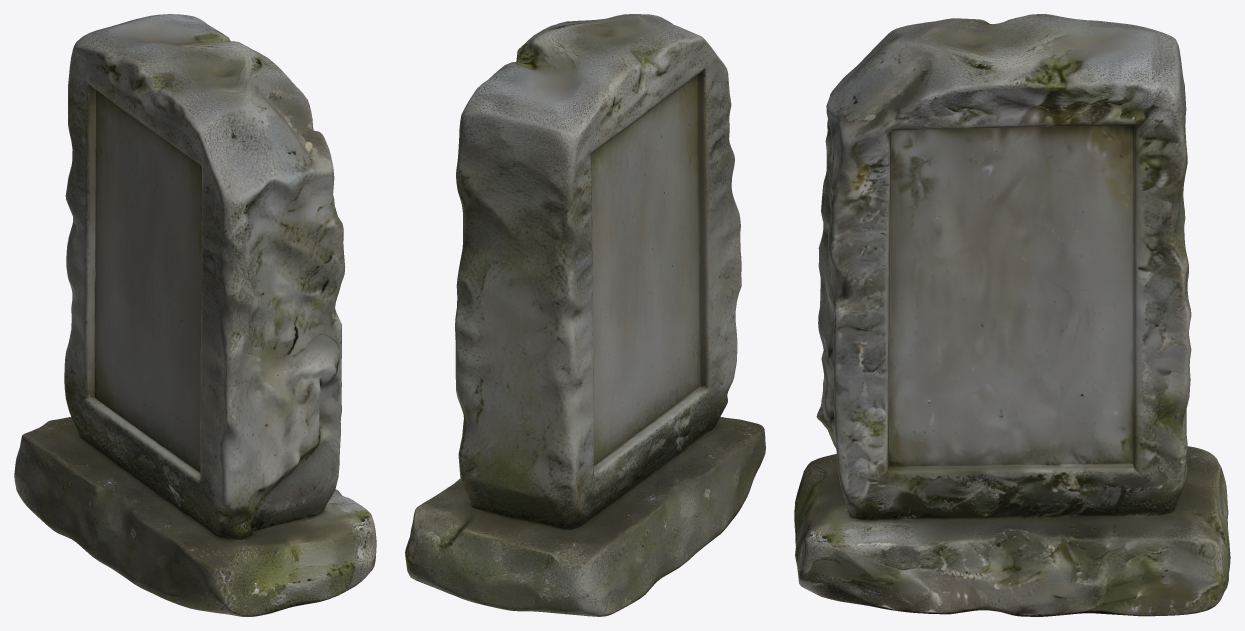
The model's file is bei.glb.
3 renders of one model, left to right at view 1: azimuth 30°, elevation 25°; view 2: azimuth 150°, elevation 25°; view 3: azimuth 270°, elevation 25°, orthographic. The views are drawn at different scales.
Parts seen in each view (by area): view 1: tripo_node_ec5aaee6-dbb5-420c-91c7-bf319fea9e7b; view 2: tripo_node_ec5aaee6-dbb5-420c-91c7-bf319fea9e7b; view 3: tripo_node_ec5aaee6-dbb5-420c-91c7-bf319fea9e7b.
Boxes of the visible parts, x1,y1,x2,y2 form: tripo_node_ec5aaee6-dbb5-420c-91c7-bf319fea9e7b: [14, 14, 376, 616]; tripo_node_ec5aaee6-dbb5-420c-91c7-bf319fea9e7b: [405, 14, 765, 616]; tripo_node_ec5aaee6-dbb5-420c-91c7-bf319fea9e7b: [794, 14, 1230, 616].
Bounding box in the file's own units: 0.4258 × 0.9999 × 0.7391.
Materials: 1 (1 with a texture image).
